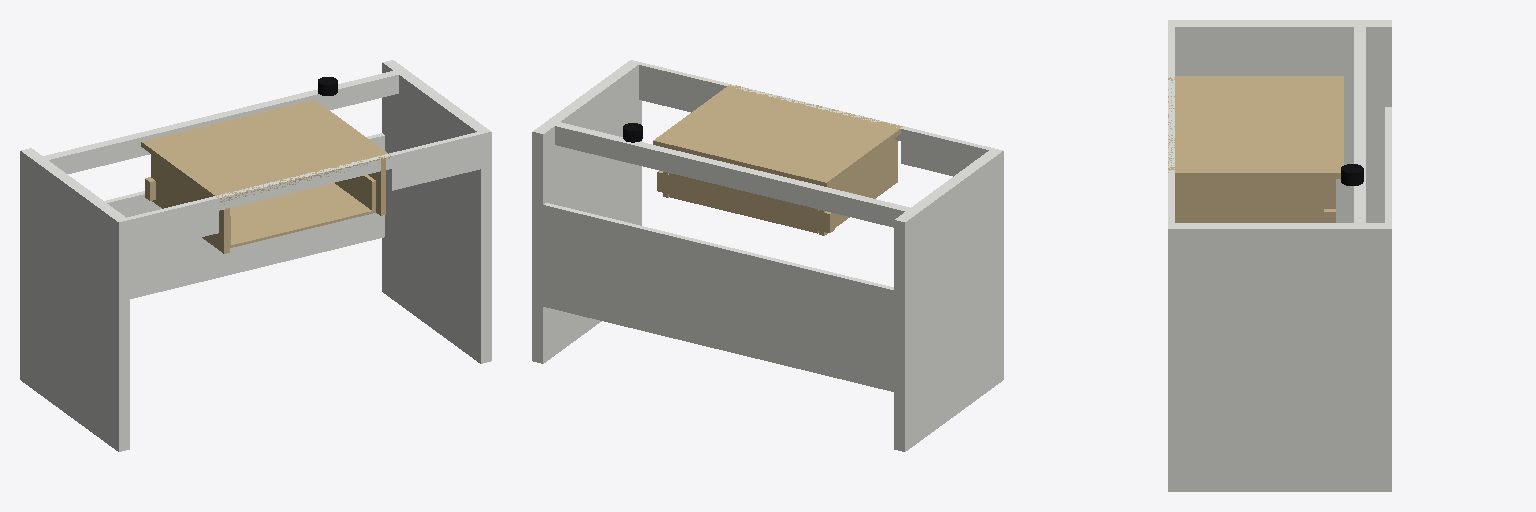
robot.urdf — study_desk_with_drawer:
<robot name="study_desk_with_drawer">
  <material name="oak_veneer">
    <color rgba="0.6 0.45 0.29 1" />
    </material>
  <material name="warm_white_lacquer">
    <color rgba="0.93 0.93 0.91 1" />
    </material>
  <material name="birch_plywood">
    <color rgba="0.82 0.74 0.58 1" />
    </material>
  <material name="graphite_metal">
    <color rgba="0.22 0.23 0.25 1" />
    </material>
  <material name="black_plastic">
    <color rgba="0.1 0.1 0.11 1" />
    </material>
  <link name="desk_base">
    <inertial>
      <origin xyz="0 0 0.361" rpy="0 0 0" />
      <mass value="33" />
      <inertia ixx="2.29593" ixy="0" ixz="0" iyy="5.71667" iyz="0" izz="5.14554" />
      </inertial>
    <visual name="left_panel">
      <origin xyz="-0.595 0 0.361" rpy="0 0 0" />
      <geometry>
        <box size="0.036 0.56 0.722" />
        </geometry>
      <material name="warm_white_lacquer">
        <color rgba="0.93 0.93 0.91 1" />
        </material>
      </visual>
    <visual name="right_panel">
      <origin xyz="0.595 0 0.361" rpy="0 0 0" />
      <geometry>
        <box size="0.036 0.56 0.722" />
        </geometry>
      <material name="warm_white_lacquer">
        <color rgba="0.93 0.93 0.91 1" />
        </material>
      </visual>
    <visual name="modesty_panel">
      <origin xyz="0 0.271 0.34" rpy="0 0 0" />
      <geometry>
        <box size="1.154 0.018 0.32" />
        </geometry>
      <material name="warm_white_lacquer">
        <color rgba="0.93 0.93 0.91 1" />
        </material>
      </visual>
    <visual name="left_apron">
      <origin xyz="-0.431 -0.271 0.667" rpy="0 0 0" />
      <geometry>
        <box size="0.292 0.018 0.11" />
        </geometry>
      <material name="warm_white_lacquer">
        <color rgba="0.93 0.93 0.91 1" />
        </material>
      </visual>
    <visual name="right_apron">
      <origin xyz="0.431 -0.271 0.667" rpy="0 0 0" />
      <geometry>
        <box size="0.292 0.018 0.11" />
        </geometry>
      <material name="warm_white_lacquer">
        <color rgba="0.93 0.93 0.91 1" />
        </material>
      </visual>
    <visual name="drawer_opening_top_rail">
      <origin xyz="0 -0.271 0.702" rpy="0 0 0" />
      <geometry>
        <box size="0.57 0.018 0.04" />
        </geometry>
      <material name="warm_white_lacquer">
        <color rgba="0.93 0.93 0.91 1" />
        </material>
      </visual>
    <visual name="rear_under_top_rail">
      <origin xyz="0 0.2 0.692" rpy="0 0 0" />
      <geometry>
        <box size="1.154 0.03 0.06" />
        </geometry>
      <material name="warm_white_lacquer">
        <color rgba="0.93 0.93 0.91 1" />
        </material>
      </visual>
    <visual name="drawer_housing_top">
      <origin xyz="0 -0.06 0.714" rpy="0 0 0" />
      <geometry>
        <box size="0.57 0.44 0.016" />
        </geometry>
      <material name="birch_plywood">
        <color rgba="0.82 0.74 0.58 1" />
        </material>
      </visual>
    <visual name="left_guide_panel">
      <origin xyz="-0.257 -0.07 0.632" rpy="0 0 0" />
      <geometry>
        <box size="0.018 0.42 0.18" />
        </geometry>
      <material name="birch_plywood">
        <color rgba="0.82 0.74 0.58 1" />
        </material>
      </visual>
    <visual name="right_guide_panel">
      <origin xyz="0.257 -0.07 0.632" rpy="0 0 0" />
      <geometry>
        <box size="0.018 0.42 0.18" />
        </geometry>
      <material name="birch_plywood">
        <color rgba="0.82 0.74 0.58 1" />
        </material>
      </visual>
    <visual name="back_stop">
      <origin xyz="0 0.125 0.585" rpy="0 0 0" />
      <geometry>
        <box size="0.57 0.03 0.06" />
        </geometry>
      <material name="birch_plywood">
        <color rgba="0.82 0.74 0.58 1" />
        </material>
      </visual>
    <visual>
      <origin xyz="-0.595 -0.22 0.005" rpy="0 0 0" />
      <geometry>
        <cylinder radius="0.011" length="0.01" />
        </geometry>
      <material name="black_plastic">
        <color rgba="0.1 0.1 0.11 1" />
        </material>
      </visual>
    <visual>
      <origin xyz="-0.595 0.22 0.005" rpy="0 0 0" />
      <geometry>
        <cylinder radius="0.011" length="0.01" />
        </geometry>
      <material name="black_plastic">
        <color rgba="0.1 0.1 0.11 1" />
        </material>
      </visual>
    <visual>
      <origin xyz="0.595 -0.22 0.005" rpy="0 0 0" />
      <geometry>
        <cylinder radius="0.011" length="0.01" />
        </geometry>
      <material name="black_plastic">
        <color rgba="0.1 0.1 0.11 1" />
        </material>
      </visual>
    <visual>
      <origin xyz="0.595 0.22 0.005" rpy="0 0 0" />
      <geometry>
        <cylinder radius="0.011" length="0.01" />
        </geometry>
      <material name="black_plastic">
        <color rgba="0.1 0.1 0.11 1" />
        </material>
      </visual>
    </link>
  <link name="tabletop">
    <inertial>
      <origin xyz="0 0.06 0.019" rpy="0 0 0" />
      <mass value="12" />
      <inertia ixx="0.385844" ixy="0" ixz="0" iyy="1.69144" iyz="0" izz="2.0744" />
      </inertial>
    <visual name="top">
      <origin xyz="0 0.06 0.019" rpy="0 0 0" />
      <geometry>
        <mesh filename="assets/meshes/tabletop.obj" />
        </geometry>
      <material name="oak_veneer">
        <color rgba="0.6 0.45 0.29 1" />
        </material>
      </visual>
    <visual name="cable_grommet">
      <origin xyz="0.34 0.24 0.0198" rpy="0 0 0" />
      <geometry>
        <cylinder radius="0.028" length="0.03572" />
        </geometry>
      <material name="black_plastic">
        <color rgba="0.1 0.1 0.11 1" />
        </material>
      </visual>
    </link>
  <link name="drawer">
    <inertial>
      <origin xyz="0.239 -0.02 0" rpy="0 0 0" />
      <mass value="4.8" />
      <inertia ixx="0.073" ixy="0" ixz="0" iyy="0.13" iyz="0" izz="0.185" />
      </inertial>
    <visual name="left_side">
      <geometry>
        <box size="0.012 0.4 0.1" />
        </geometry>
      <material name="birch_plywood">
        <color rgba="0.82 0.74 0.58 1" />
        </material>
      </visual>
    <visual name="right_side">
      <origin xyz="0.478 0 0" rpy="0 0 0" />
      <geometry>
        <box size="0.012 0.4 0.1" />
        </geometry>
      <material name="birch_plywood">
        <color rgba="0.82 0.74 0.58 1" />
        </material>
      </visual>
    <visual name="bottom">
      <origin xyz="0.239 0 -0.046" rpy="0 0 0" />
      <geometry>
        <box size="0.466 0.4 0.008" />
        </geometry>
      <material name="birch_plywood">
        <color rgba="0.82 0.74 0.58 1" />
        </material>
      </visual>
    <visual name="back">
      <origin xyz="0.239 0.194 -0.005" rpy="0 0 0" />
      <geometry>
        <box size="0.466 0.012 0.09" />
        </geometry>
      <material name="birch_plywood">
        <color rgba="0.82 0.74 0.58 1" />
        </material>
      </visual>
    <visual name="front_face">
      <origin xyz="0.239 -0.21 0.005" rpy="1.5708 0 0" />
      <geometry>
        <mesh filename="assets/meshes/drawer_face.obj" />
        </geometry>
      <material name="warm_white_lacquer">
        <color rgba="0.93 0.93 0.91 1" />
        </material>
      </visual>
    <visual name="pull_handle">
      <origin xyz="0.239 -0.218 0.005" rpy="0 0 0" />
      <geometry>
        <mesh filename="assets/meshes/drawer_handle.obj" />
        </geometry>
      <material name="graphite_metal">
        <color rgba="0.22 0.23 0.25 1" />
        </material>
      </visual>
    </link>
  <joint name="base_to_tabletop" type="fixed">
    <origin xyz="0 -0.06 0.722" rpy="0 0 0" />
    <parent link="desk_base" />
    <child link="tabletop" />
    </joint>
  <joint name="drawer_slide" type="prismatic">
    <origin xyz="-0.239 -0.06 0.595" rpy="0 0 0" />
    <parent link="desk_base" />
    <child link="drawer" />
    <axis xyz="0 -1 0" />
    <limit effort="120" velocity="0.6" lower="0" upper="0.32" />
    </joint>
  </robot>

--- Render facts (derived) ---
3 views of the same robot in one strip: view 1: azimuth 30°, elevation 25°; view 2: azimuth 150°, elevation 25°; view 3: azimuth 270°, elevation 25° (orthographic).
Robot: study_desk_with_drawer — 3 links, 2 joints (1 prismatic, 1 fixed); root link desk_base; default pose: every joint at zero.
Links seen in each view (by area): view 1: desk_base, drawer; view 2: desk_base, drawer; view 3: desk_base.
Link boxes in pixels (x1=…): desk_base: x1=20, y1=60, x2=491, y2=451; drawer: x1=230, y1=175, x2=375, y2=247; desk_base: x1=532, y1=60, x2=1003, y2=451; drawer: x1=669, y1=173, x2=818, y2=233; desk_base: x1=1168, y1=20, x2=1391, y2=491.
Size in the robot's own frame: 1.23 by 0.56 by 0.7597 metres.
Meshes: 3 distinct files referenced, 0 mesh visuals loaded (none loaded); not drawn: 3 (reference not matched to a file when rendering).
